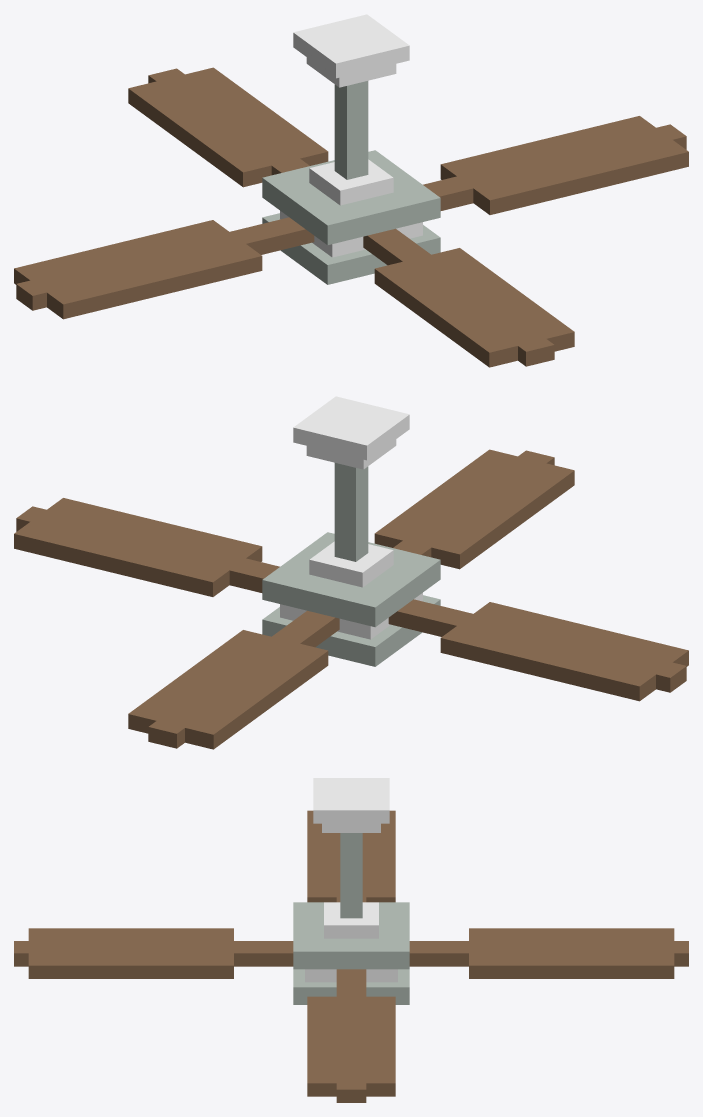
The model's file is fan.fbx.
3 renders of one model, top to bottom at view 1: azimuth 30°, elevation 25°; view 2: azimuth 150°, elevation 25°; view 3: azimuth 270°, elevation 25°, orthographic. The views are drawn at different scales.
Visible parts, largest first — view 1: fan, fanBase; view 2: fan, fanBase; view 3: fan, fanBase.
Boxes of the visible parts, x1,y1,x2,y2 form: fan: [14, 67, 688, 367]; fanBase: [262, 14, 440, 284]; fan: [14, 449, 688, 749]; fanBase: [262, 396, 440, 666]; fan: [14, 810, 688, 1102]; fanBase: [293, 778, 409, 1004].
Bounding box in the file's own units: 345 × 108 × 345.
